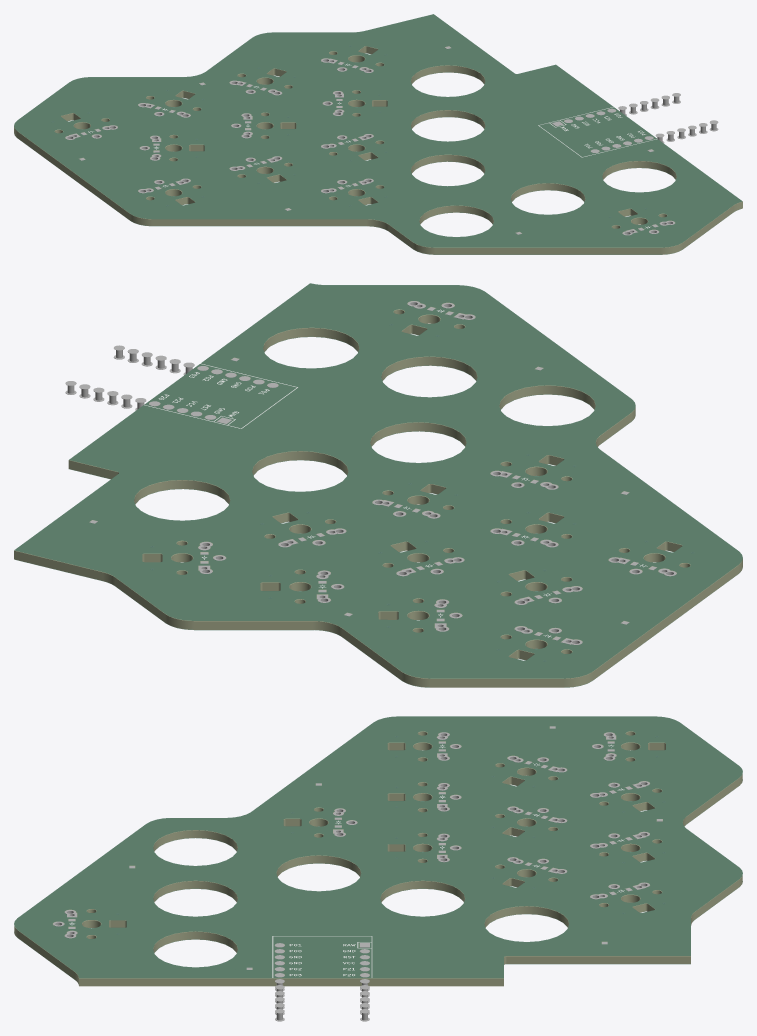
Rendered from board.glb.
3 views of the same model, one above another, from view 1: azimuth 30°, elevation 25°; view 2: azimuth 150°, elevation 25°; view 3: azimuth 270°, elevation 25° (orthographic). The views are drawn at different scales.
Visible parts, largest first — view 1: board_PCB, board_soldermask (×2), board_pad, board_silkscreen; view 2: board_PCB, board_soldermask (×2), board_pad, board_silkscreen; view 3: board_PCB, board_soldermask (×2), board_pad, board_silkscreen.
Boxes of the visible parts, x1,y1,x2,y2 form: board_PCB: (14,15,742,254); board_soldermask (×2): (14,14,742,254); board_pad: (52,46,718,235); board_silkscreen: (88,63,657,228); board_PCB: (14,284,742,687); board_soldermask (×2): (14,283,742,687); board_pad: (65,301,693,661); board_silkscreen: (144,309,647,637); board_PCB: (14,717,742,986); board_soldermask (×2): (14,716,742,980); board_pad: (53,726,664,1021); board_silkscreen: (69,744,624,977).
Bounding box in the file's own units: 0.1259 × 0.00166 × 0.1306.
